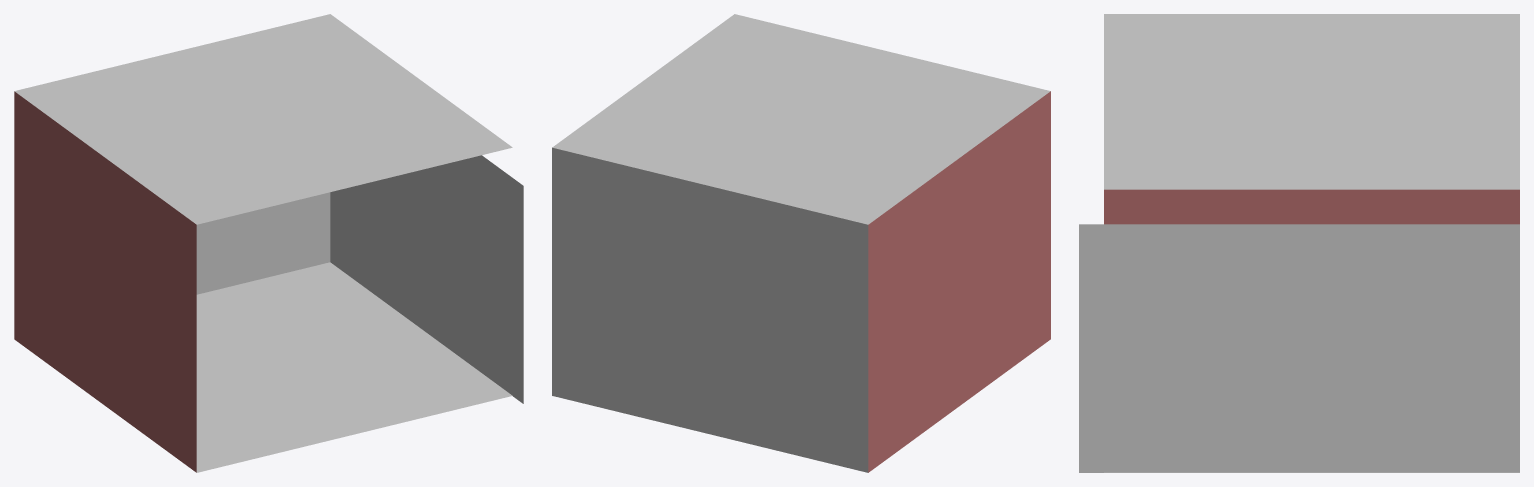
3 views of the same model, side by side, from view 1: azimuth 30°, elevation 25°; view 2: azimuth 150°, elevation 25°; view 3: azimuth 270°, elevation 25° (orthographic). The views are drawn at different scales.
Parts seen in each view (by area): view 1: ceiling, leftWall, floor, Plane, backWall; view 2: backWall, ceiling, leftWall; view 3: Plane, ceiling, leftWall.
Part boxes in pixels (x1=…): ceiling: x1=14, y1=14, x2=512, y2=224; leftWall: x1=14, y1=91, x2=196, y2=472; floor: x1=196, y1=262, x2=512, y2=472; Plane: x1=330, y1=155, x2=523, y2=403; backWall: x1=196, y1=192, x2=330, y2=294; backWall: x1=552, y1=147, x2=868, y2=472; ceiling: x1=552, y1=14, x2=1050, y2=224; leftWall: x1=868, y1=91, x2=1050, y2=472; Plane: x1=1079, y1=224, x2=1519, y2=472; ceiling: x1=1104, y1=14, x2=1519, y2=189; leftWall: x1=1104, y1=189, x2=1519, y2=224.
Bounding box in the file's own units: 2 × 2.12 × 1.5.
